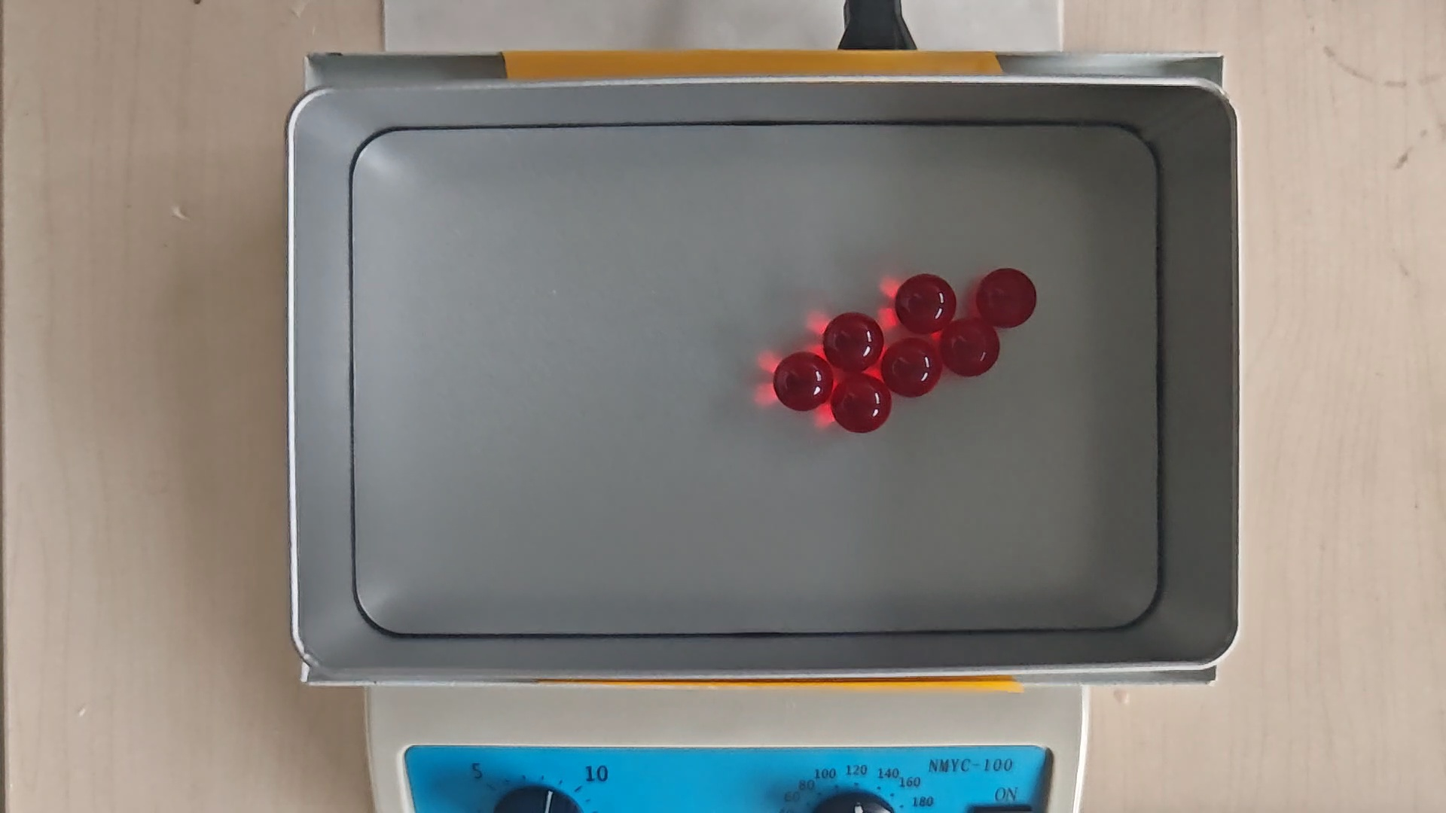ball: (897, 273, 956, 335), (883, 338, 941, 398), (825, 312, 883, 371), (979, 269, 1037, 328), (833, 374, 889, 434), (944, 318, 999, 377), (775, 353, 828, 411)
container: (349, 118, 1161, 635)
